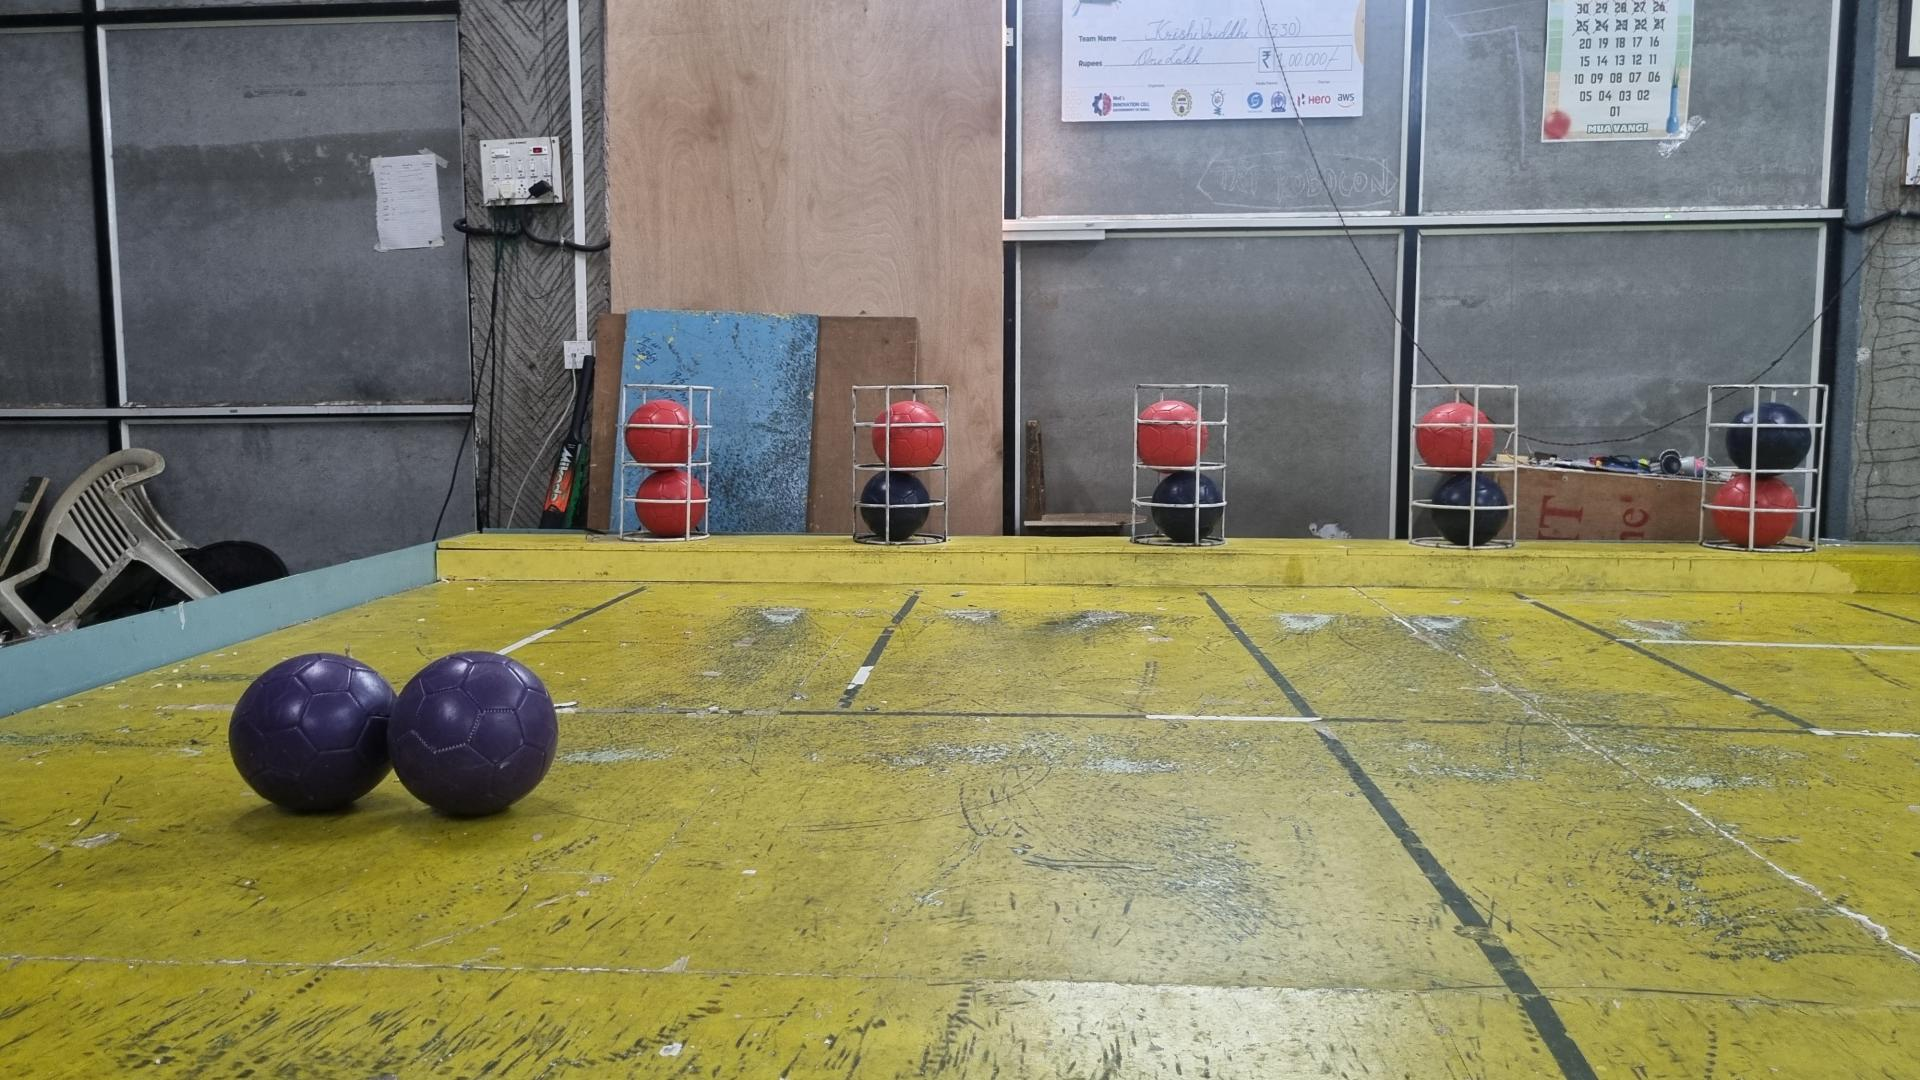dhoka: (1725, 401, 1812, 472), (1432, 472, 1507, 547), (858, 472, 930, 543), (1151, 472, 1222, 543)
laale: (1710, 472, 1796, 547), (1414, 401, 1497, 468), (870, 401, 945, 468), (634, 468, 708, 535), (1137, 401, 1208, 468), (626, 397, 698, 464)
